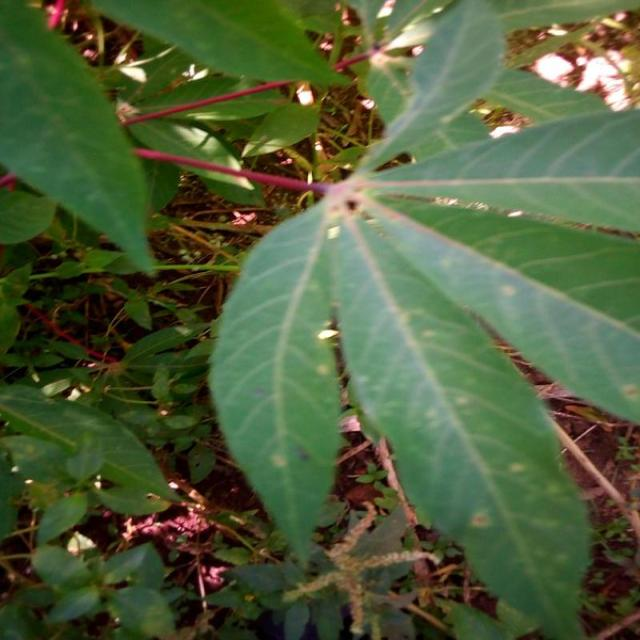cassava leaf: (206, 2, 638, 637)
